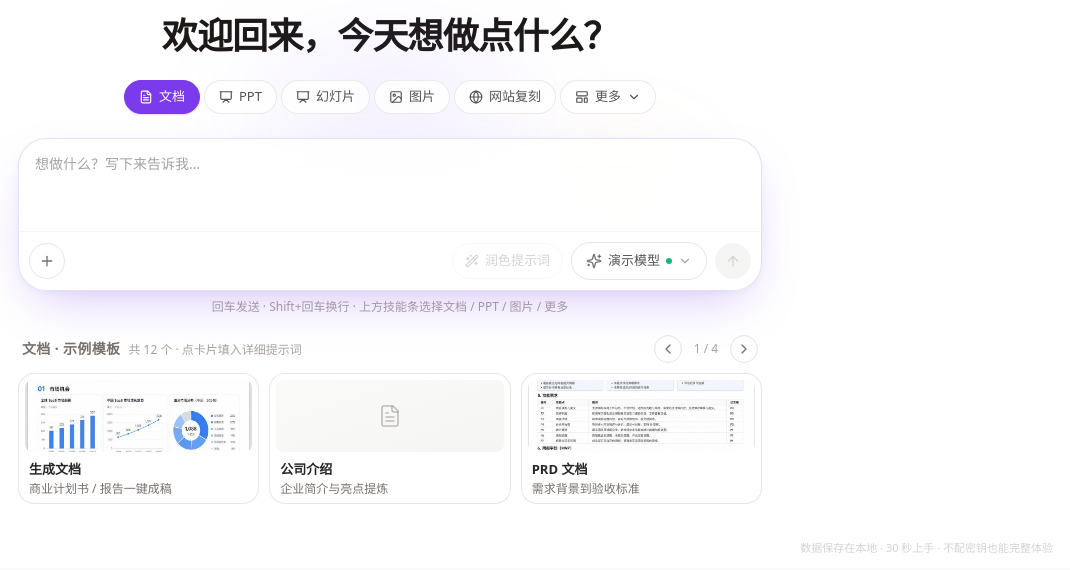
Test case: ChatPanel 斜杠命令 › 按前缀过滤命令
In the text box: (390, 184) [19,138,761,230], type "/tr"
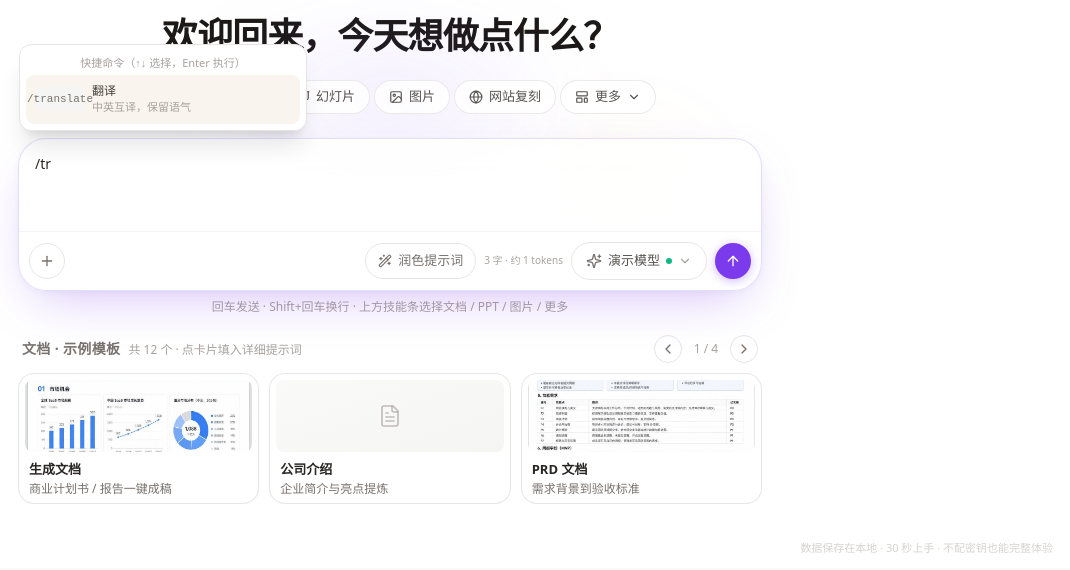
Result: the button "/translate 翻译 中英互译，保留语气" is shown at [26,75,300,124]
